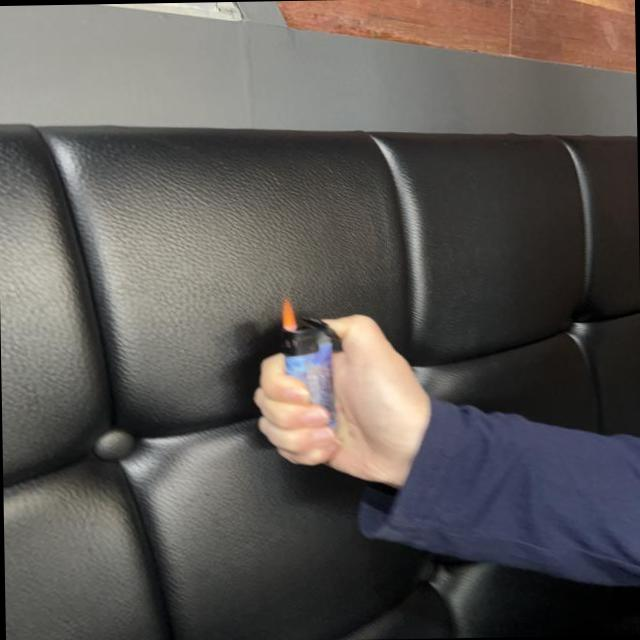Fire: (276, 296, 300, 332)
